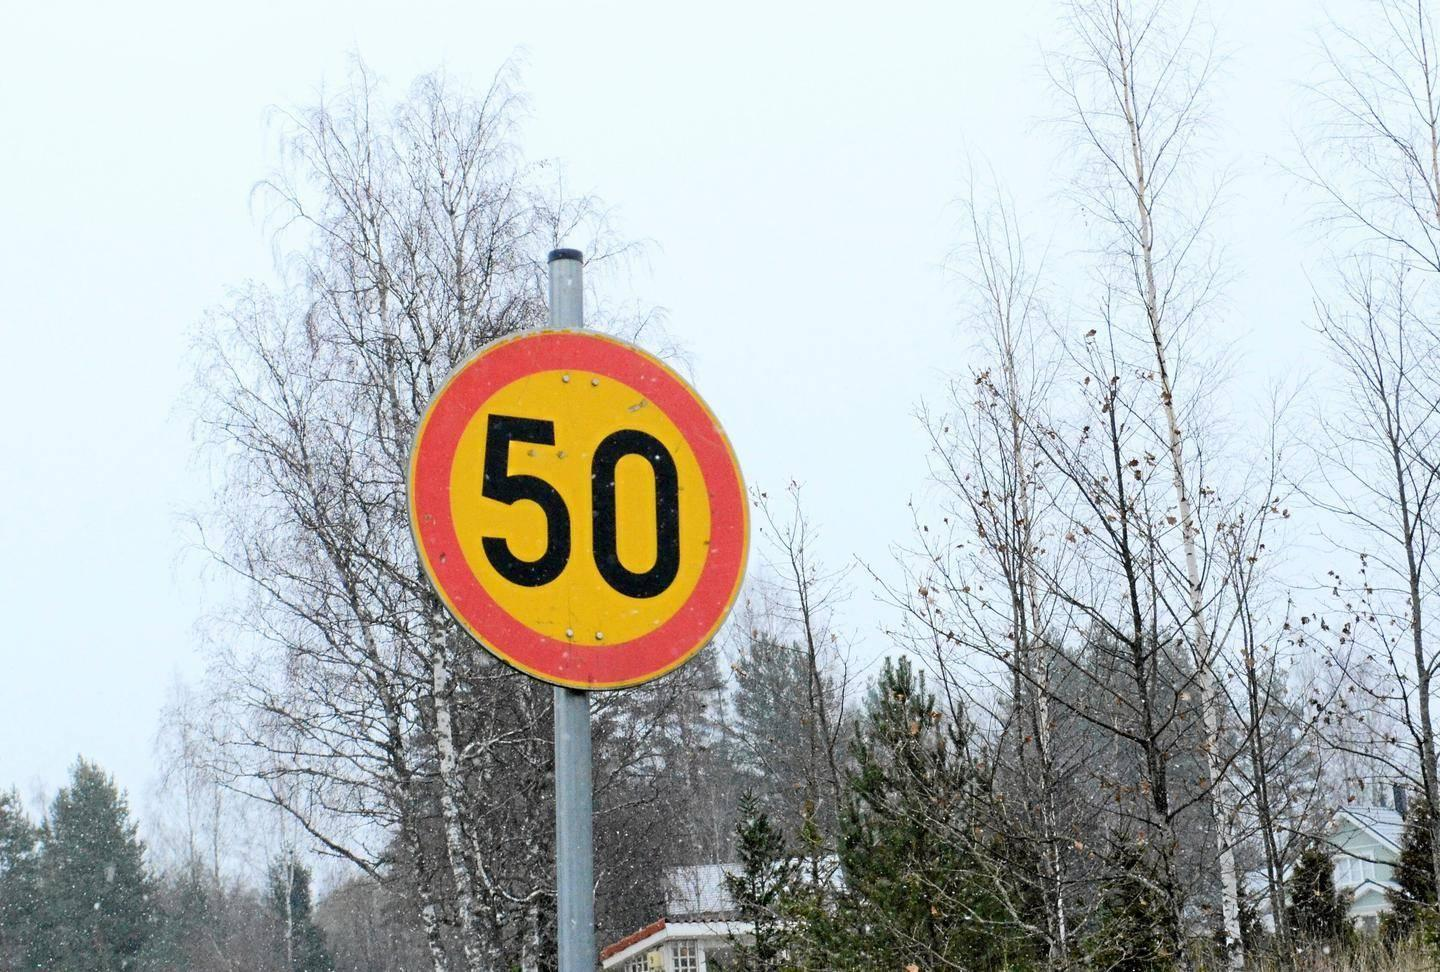traffic sign: (374, 219, 771, 956)
